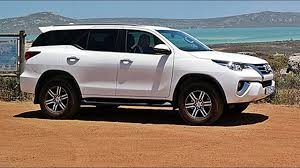Toyota: (25, 23, 271, 113)
